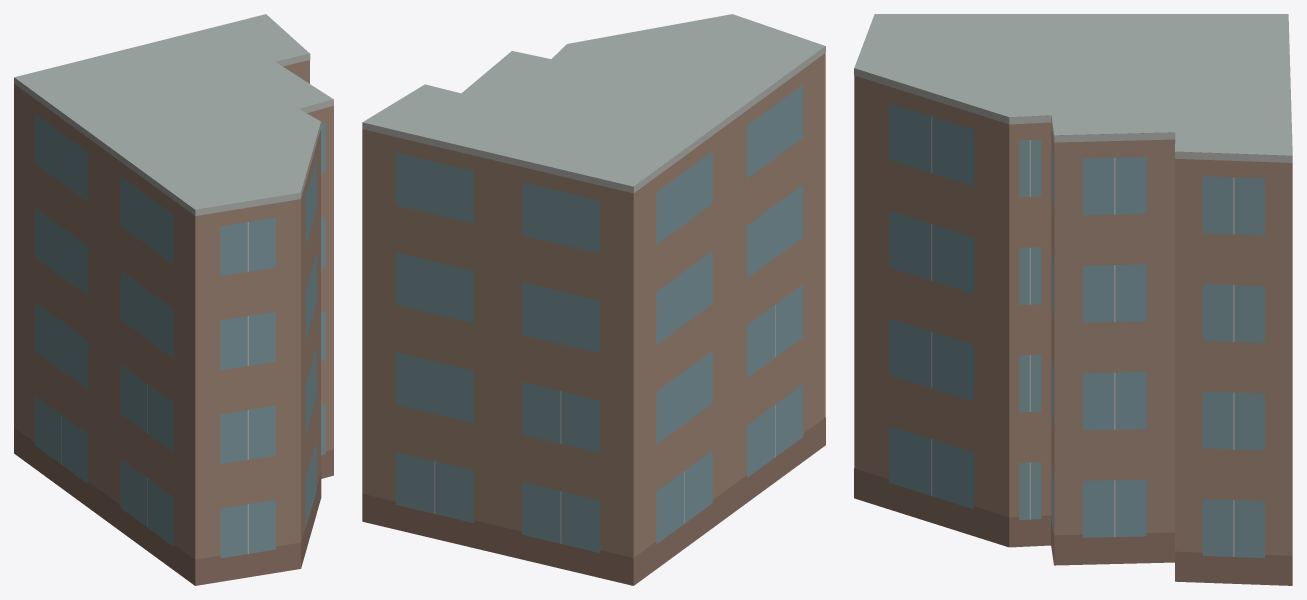
The model's file is survey-upis-32489150.glb.
The picture shows the model from 3 angles, left to right: view 1: azimuth 30°, elevation 25°; view 2: azimuth 150°, elevation 25°; view 3: azimuth 270°, elevation 25°; orthographic projection. The views are drawn at different scales.
Visible parts, largest first — view 1: survey-upis-32489150.tmp; view 2: survey-upis-32489150.tmp; view 3: survey-upis-32489150.tmp.
Boxes of the visible parts, box(x1,y1,x2,y2) form: survey-upis-32489150.tmp: box(14, 14, 333, 585); survey-upis-32489150.tmp: box(362, 14, 825, 585); survey-upis-32489150.tmp: box(854, 14, 1292, 585).
Bounding box in the file's own units: 10.21 × 14.43 × 13.35.
